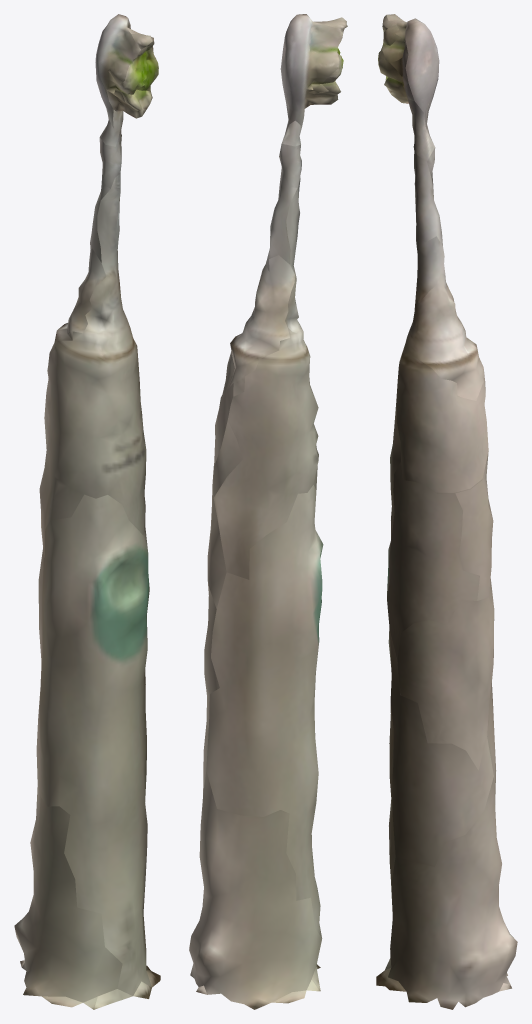
The model's file is toothbrush.fbx.
3 views of the same model, side by side, from view 1: azimuth 90°, elevation 25°; view 2: azimuth 150°, elevation 25°; view 3: azimuth 270°, elevation 25° (orthographic). The views are drawn at different scales.
Parts seen in each view (by area): view 1: meshes_0_; view 2: meshes_0_; view 3: meshes_0_.
Boxes of the visible parts, box(x1,y1,x2,y2) form: meshes_0_: box(14, 14, 160, 1009); meshes_0_: box(189, 14, 347, 1009); meshes_0_: box(376, 14, 517, 1009).
Size of the model in its own units: 0.0805 by 0.6102 by 0.0825.
1 material, 1 textured.
